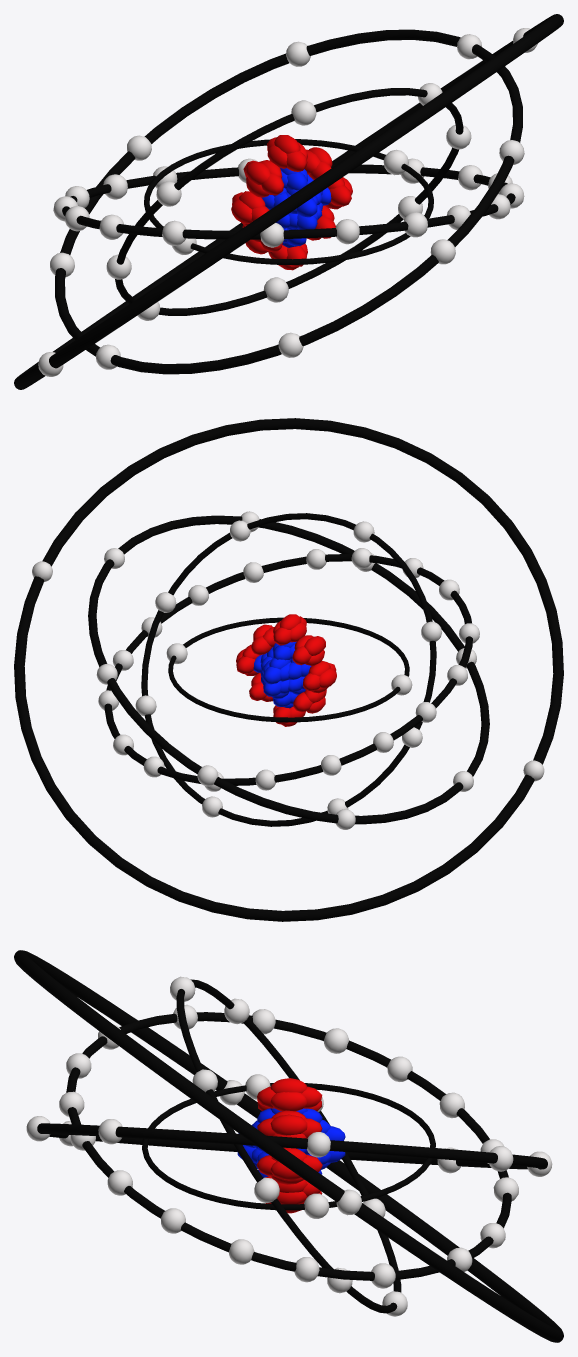
Rendered from 40 Circonio.fbx.
The picture shows the model from 3 angles, top to bottom: view 1: azimuth 30°, elevation 25°; view 2: azimuth 150°, elevation 25°; view 3: azimuth 270°, elevation 25°; orthographic projection. The views are drawn at different scales.
Visible parts, largest first — view 1: Orbita.004, Orbita.005, Nucleo.007, Orbita.002, Orbita.003, Orbita.001, Electron.008, Electron.007, Electron.030, Electron.010, Electron.020, Electron.033 (+5 smaller); view 2: Orbita.005, Orbita.004, Nucleo.007, Orbita.002, Orbita.003, Orbita.001; view 3: Orbita.005, Orbita.003, Orbita.004, Nucleo.007, Orbita.002, Orbita.001, Electron, Electron.003, Electron.005, Electron.011, Electron.025, Electron.019 (+6 smaller).
Part boxes in pixels (box(x1,y1,x2,y2)): Orbita.004: box(55, 29, 522, 374); Orbita.005: box(14, 14, 563, 389); Nucleo.007: box(231, 135, 352, 270); Orbita.002: box(115, 88, 463, 315); Orbita.003: box(62, 164, 515, 239); Orbita.001: box(144, 139, 433, 264); Electron.008: box(291, 100, 316, 125); Electron.007: box(263, 277, 288, 302); Electron.030: box(335, 219, 359, 244); Electron.010: box(156, 181, 181, 206); Electron.020: box(278, 332, 303, 357); Electron.033: box(430, 239, 455, 264); Orbita.005: box(14, 418, 563, 921); Orbita.004: box(88, 515, 489, 824); Nucleo.007: box(236, 614, 336, 726); Orbita.002: box(141, 513, 436, 826); Orbita.003: box(104, 554, 472, 785); Orbita.001: box(168, 617, 409, 722); Orbita.005: box(14, 950, 563, 1342); Orbita.003: box(66, 1012, 511, 1280); Orbita.004: box(37, 1123, 547, 1169); Nucleo.007: box(237, 1078, 345, 1213); Orbita.002: box(176, 979, 401, 1313); Orbita.001: box(142, 1083, 435, 1210); Electron: box(304, 1193, 329, 1218); Electron.003: box(254, 1177, 279, 1202); Electron.005: box(229, 1239, 254, 1264); Electron.011: box(324, 1028, 348, 1053); Electron.025: box(294, 1257, 319, 1282); Electron.019: box(307, 1132, 330, 1157).
Bounding box in the file's own units: 14.48 × 17.09 × 11.71.
